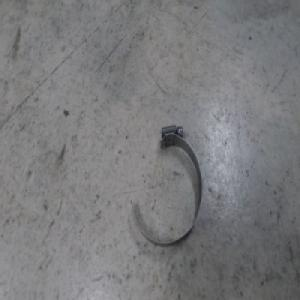AdjustableClamp: (129, 124, 203, 247)
